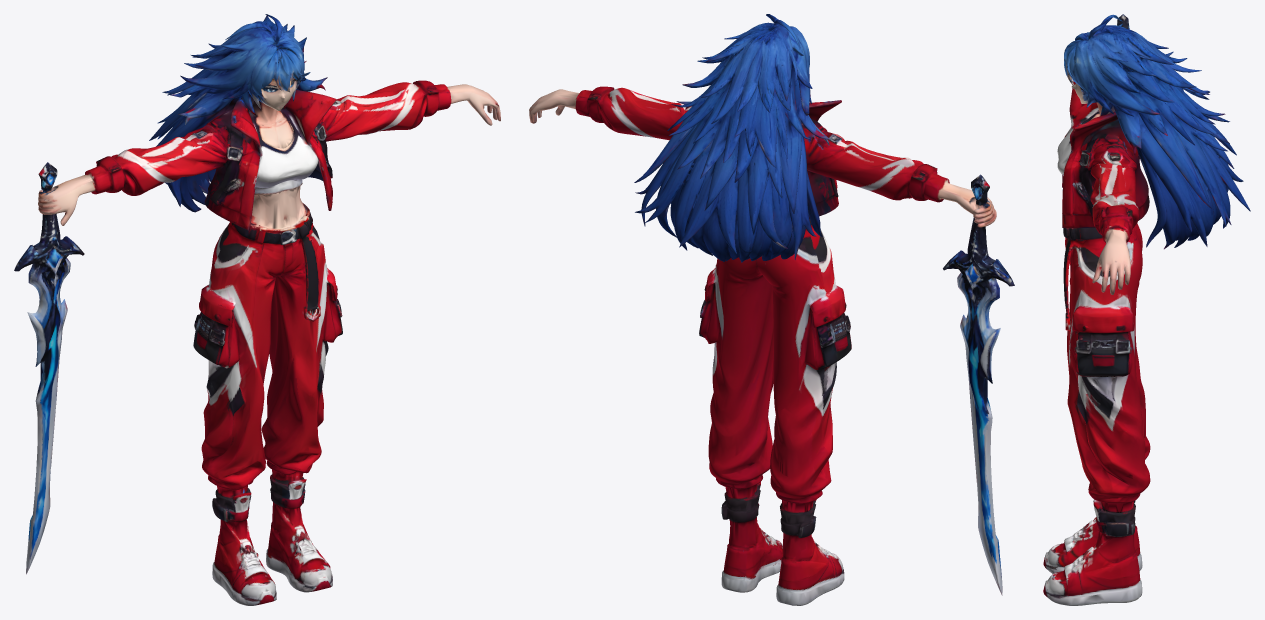
3 renders of one model, left to right at view 1: azimuth 30°, elevation 25°; view 2: azimuth 150°, elevation 25°; view 3: azimuth 270°, elevation 25°, orthographic. The views are drawn at different scales.
Visible parts, largest first — view 1: convert; view 2: convert; view 3: convert.
Boxes of the visible parts, x1,y1,x2,y2 form: convert: (14, 14, 500, 605); convert: (529, 14, 1014, 605); convert: (1043, 14, 1250, 605).
Bounding box in the file's own units: 0.9119 × 1.02 × 0.3386.
Materials: 1 (1 with a texture image).
